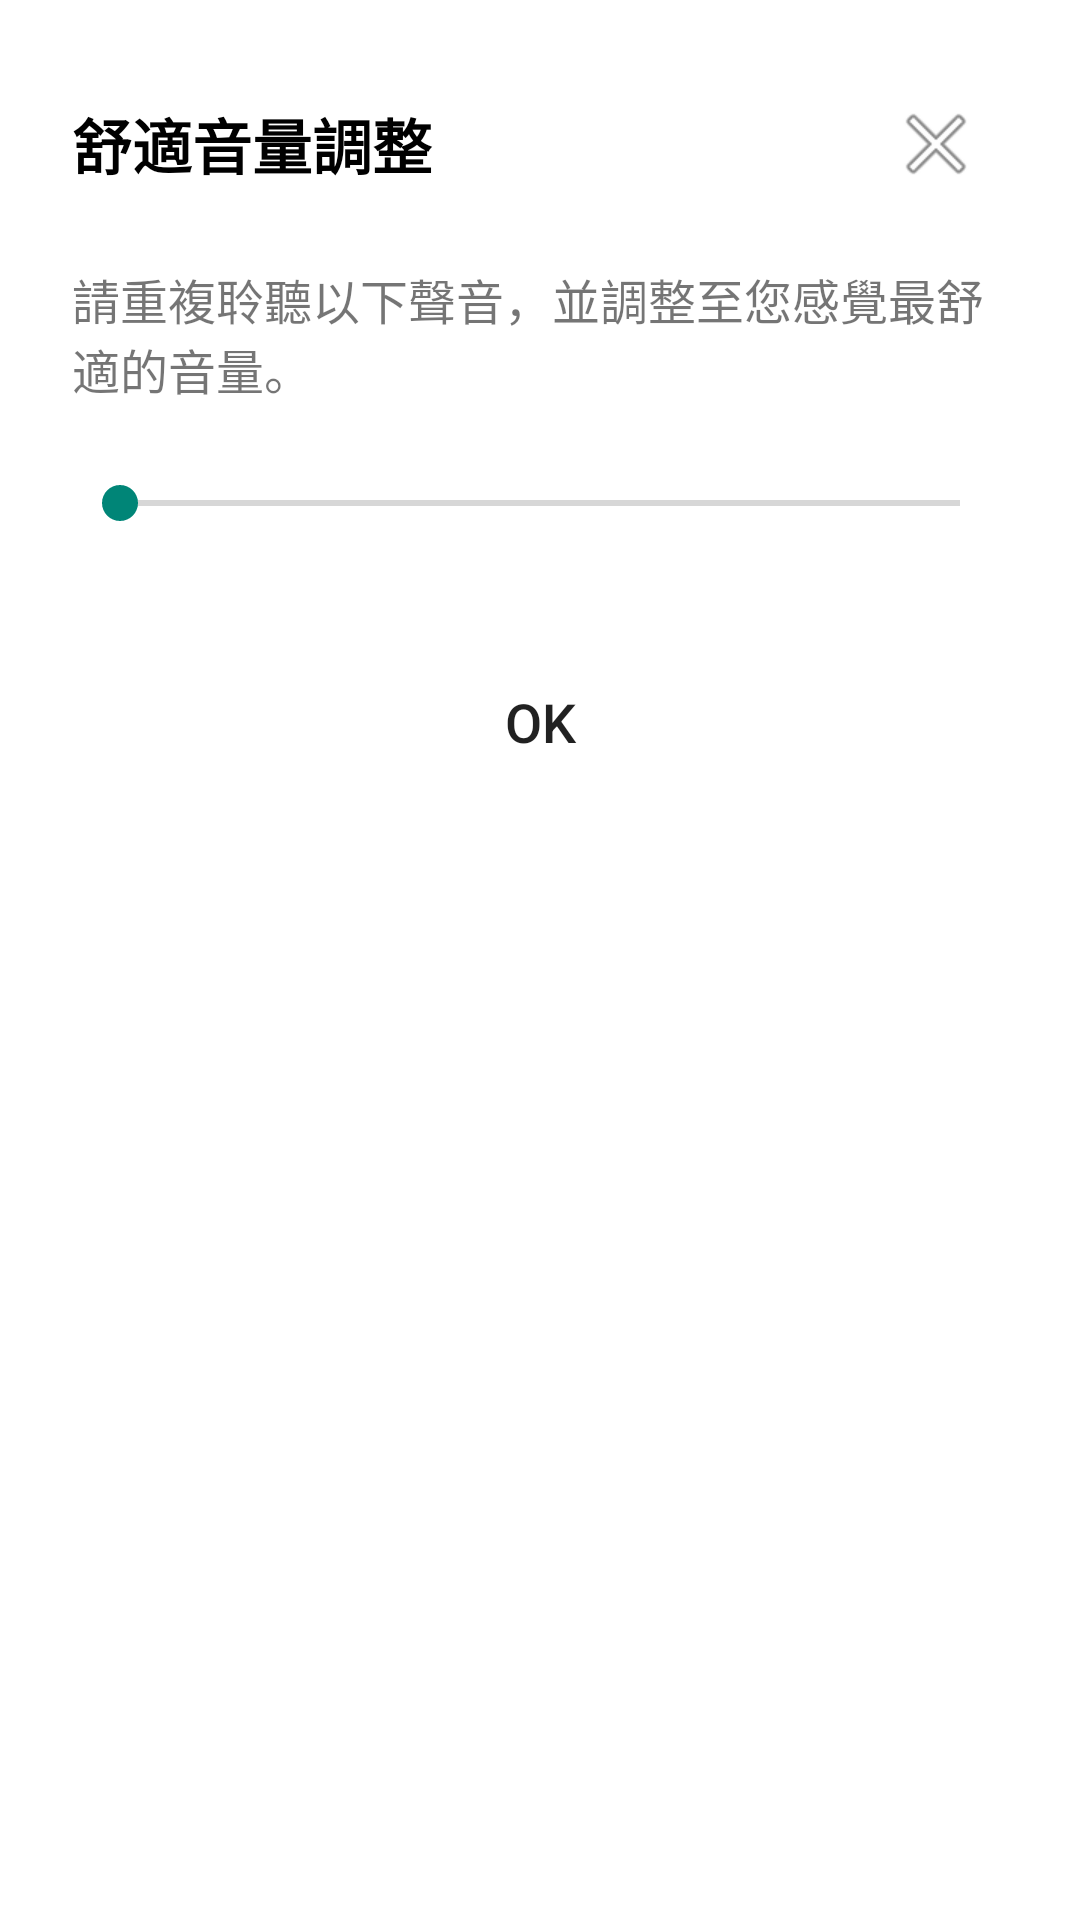

Icon click points for this 1080w x 1920h phone screenshot, format (x=x, y=y):
Close: (x=936, y=144)
